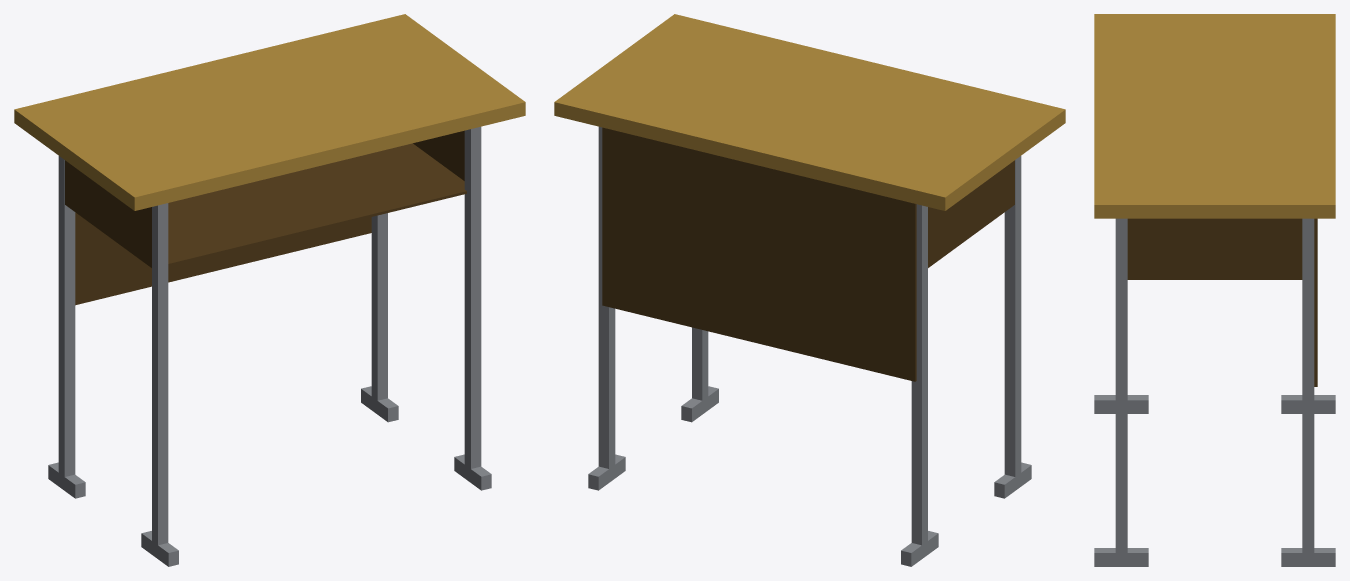
Rendered from mesa chica.fbx.
3 renders of one model, left to right at view 1: azimuth 30°, elevation 25°; view 2: azimuth 150°, elevation 25°; view 3: azimuth 270°, elevation 25°, orthographic.
Visible parts, largest first — view 1: superficie.002, cubiertas laterales.002, patas.002, cubierta frontal.002; view 2: cubierta frontal.002, superficie.002, patas.002, cubiertas laterales.002; view 3: superficie.002, patas.002, cubiertas laterales.002, cubierta frontal.002.
Boxes of the visible parts, x1,y1,x2,y2 form: superficie.002: (14,14,525,210); cubiertas laterales.002: (65,130,466,267); patas.002: (48,126,491,566); cubierta frontal.002: (75,212,371,305); cubierta frontal.002: (602,127,916,381); superficie.002: (554,14,1065,210); patas.002: (588,126,1031,566); cubiertas laterales.002: (928,160,1014,267); superficie.002: (1094,14,1335,218); patas.002: (1094,218,1335,566); cubiertas laterales.002: (1127,218,1302,279); cubierta frontal.002: (1314,218,1317,386).
Bounding box in the file's own units: 75 × 40 × 69.24.
